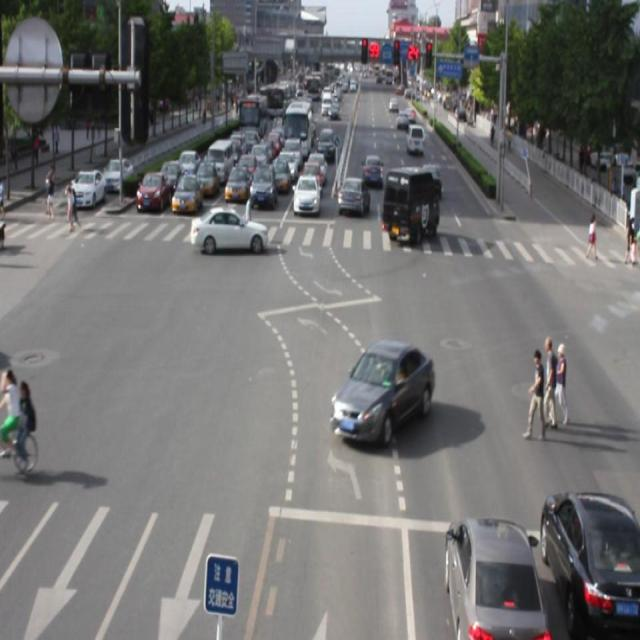car: (535, 493, 640, 640), (442, 516, 541, 640), (332, 340, 436, 442), (192, 204, 268, 258)
truck: (380, 166, 440, 244)
